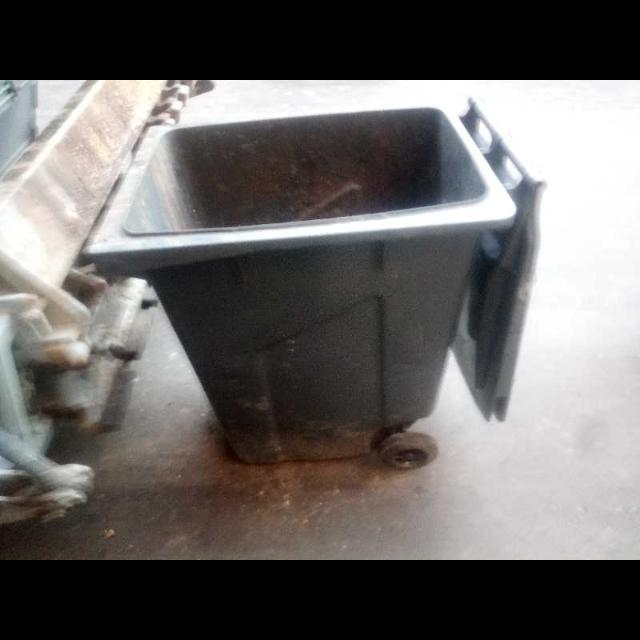Trash_Can_Empty: (85, 103, 515, 463)
